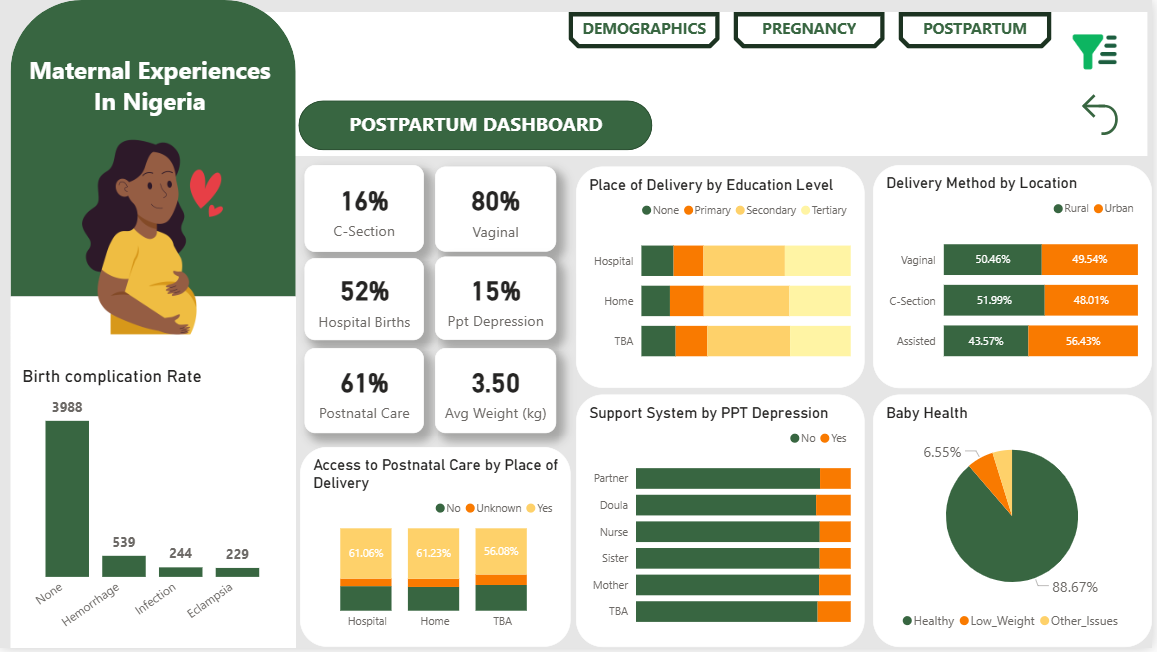

The dashboard page shown, as its layout file describes it:
{"tool":"powerbi","page":{"name":"Postpartum","canvas":[1280,720],"ordinal":2},"visuals":[{"type":"group","id":"g1","title":"Dashboard","box":[12.1,0,1268.6,720.7],"z":0},{"type":"shape","box":[12.1,329.3,317.2,391.4],"z":0,"group":"g1"},{"type":"shape","box":[255.4,13.5,1019.9,160.3],"z":1000,"group":"g1"},{"type":"actionButton","title":"Demographics Button","box":[631.6,13.5,168.1,40.6],"z":2000},{"type":"shape","box":[12.1,0,317,329.3],"z":3000,"group":"g1"},{"type":"actionButton","title":"Pregnancy Button","box":[815.1,13.5,168.1,40.6],"z":3000},{"type":"actionButton","title":"Postpartum Button","box":[998.6,13.5,170,40.6],"z":4000},{"type":"textbox","box":[26.7,53.3,286.7,91.7],"z":4000,"group":"g1"},{"type":"shape","box":[332.8,111,393.1,55.2],"z":5000,"group":"g1"},{"type":"textbox","box":[360.4,116.1,337.9,44.8],"z":6000,"group":"g1"},{"type":"hundredPercentStackedBarChart","title":"Delivery Method by Location","fields":{"Y":["Count(nigeria_delivery_postpartum_5000.mother_id)"],"Category":["nigeria_delivery_postpartum_5000.delivery_method"],"Series":["nigeria_maternal_demographics_5000.rural_urban"]},"box":[971,184,309.7,247.7],"z":7000,"group":"g1"},{"type":"hundredPercentStackedBarChart","title":"Support System by PPT Depression","fields":{"Category":["nigeria_delivery_postpartum_5000.support_system"],"Y":["CountNonNull(nigeria_delivery_postpartum_5000.mother_id)"],"Series":["nigeria_delivery_postpartum_5000.postpartum_depression"]},"box":[641.3,439,320.6,280.5],"z":8000,"group":"g1"},{"type":"card","fields":{"Values":["nigeria_delivery_postpartum_5000.% C-Section"]},"box":[338.9,184,133,96.5],"z":9000,"group":"g1"},{"type":"card","fields":{"Values":["nigeria_delivery_postpartum_5000.% Hospital Births"]},"box":[338.9,286,133,91.1],"z":10000,"group":"g1"},{"type":"card","fields":{"Values":["nigeria_delivery_postpartum_5000.% Vaginal"]},"box":[484.6,185.8,134.8,94.7],"z":11000,"group":"g1"},{"type":"card","fields":{"Values":["nigeria_delivery_postpartum_5000.% Postnatal Care"]},"box":[338.9,386.2,133,94.7],"z":12000,"group":"g1"},{"type":"hundredPercentStackedBarChart","title":"Place of Delivery by Education Level","fields":{"Category":["nigeria_delivery_postpartum_5000.place_of_delivery"],"Y":["Count(nigeria_maternal_demographics_5000.mother_id)"],"Series":["nigeria_maternal_demographics_5000.education_level"]},"box":[641.3,185.8,320.6,245.9],"z":13000,"group":"g1"},{"type":"card","fields":{"Values":["nigeria_delivery_postpartum_5000.% Postpartum_Depression_Pct"]},"box":[484.6,284.2,134.8,92.9],"z":14000,"group":"g1"},{"type":"card","fields":{"Values":["Avg(nigeria_delivery_postpartum_5000.baby_weight_kg)"]},"box":[484.6,386.2,134.8,94.7],"z":15000,"group":"g1"},{"type":"pieChart","title":"Baby Health","fields":{"Category":["nigeria_delivery_postpartum_5000.baby_health"],"Y":["CountNonNull(nigeria_delivery_postpartum_5000.baby_health)"]},"box":[971,439,309.7,280.5],"z":16000,"group":"g1"},{"type":"hundredPercentStackedColumnChart","title":"Access to Postnatal Care by Place of Delivery","fields":{"Category":["nigeria_delivery_postpartum_5000.place_of_delivery"],"Series":["nigeria_delivery_postpartum_5000.postnatal_care_access"],"Y":["CountNonNull(nigeria_delivery_postpartum_5000.mother_id)"]},"box":[333.4,497.3,300.6,222.2],"z":17000,"group":"g1"},{"type":"clusteredColumnChart","title":"Birth complication Rate","fields":{"Y":["Count(nigeria_delivery_postpartum_5000.mother_id)"],"Category":["nigeria_delivery_postpartum_5000.birth_complications"]},"box":[20,406,300,314],"z":18000,"group":"g1"},{"type":"image","box":[19.1,135.2,299,256.1],"z":19000,"group":"g1"},{"type":"image","title":"Filter Icon","box":[1182.6,25.4,68.4,65.2],"z":20000,"group":"g1"},{"type":"actionButton","title":"Reset Button","box":[1194,98,76,58],"z":20500,"group":"g1"}]}

Visuals, with their boxes in screenshot pixels (x1, y1, x2, y2), scaled from the page's 1280x720 canvas onto the 1157x652 screenshot:
"Dashboard" group: 11 0 1156 651
shape: 11 298 298 651
shape: 231 12 1153 157
"Demographics Button" actionButton: 571 12 723 49
shape: 11 0 297 298
"Pregnancy Button" actionButton: 737 12 889 49
"Postpartum Button" actionButton: 903 12 1056 49
textbox: 24 48 283 131
shape: 301 101 656 151
textbox: 326 105 631 146
"Delivery Method by Location" hundredPercentStackedBarChart: 878 167 1156 391
"Support System by PPT Depression" hundredPercentStackedBarChart: 580 398 869 651
card - nigeria_delivery_postpartum_5000.% C-Section: 306 167 427 254
card - nigeria_delivery_postpartum_5000.% Hospital Births: 306 259 427 341
card - nigeria_delivery_postpartum_5000.% Vaginal: 438 168 560 254
card - nigeria_delivery_postpartum_5000.% Postnatal Care: 306 350 427 435
"Place of Delivery by Education Level" hundredPercentStackedBarChart: 580 168 869 391
card - nigeria_delivery_postpartum_5000.% Postpartum_Depression_Pct: 438 257 560 341
card - Avg(nigeria_delivery_postpartum_5000.baby_weight_kg): 438 350 560 435
"Baby Health" pieChart: 878 398 1156 651
"Access to Postnatal Care by Place of Delivery" hundredPercentStackedColumnChart: 301 450 573 651
"Birth complication Rate" clusteredColumnChart: 18 368 289 651
image: 17 122 288 354
"Filter Icon" image: 1069 23 1131 82
"Reset Button" actionButton: 1079 89 1148 141
